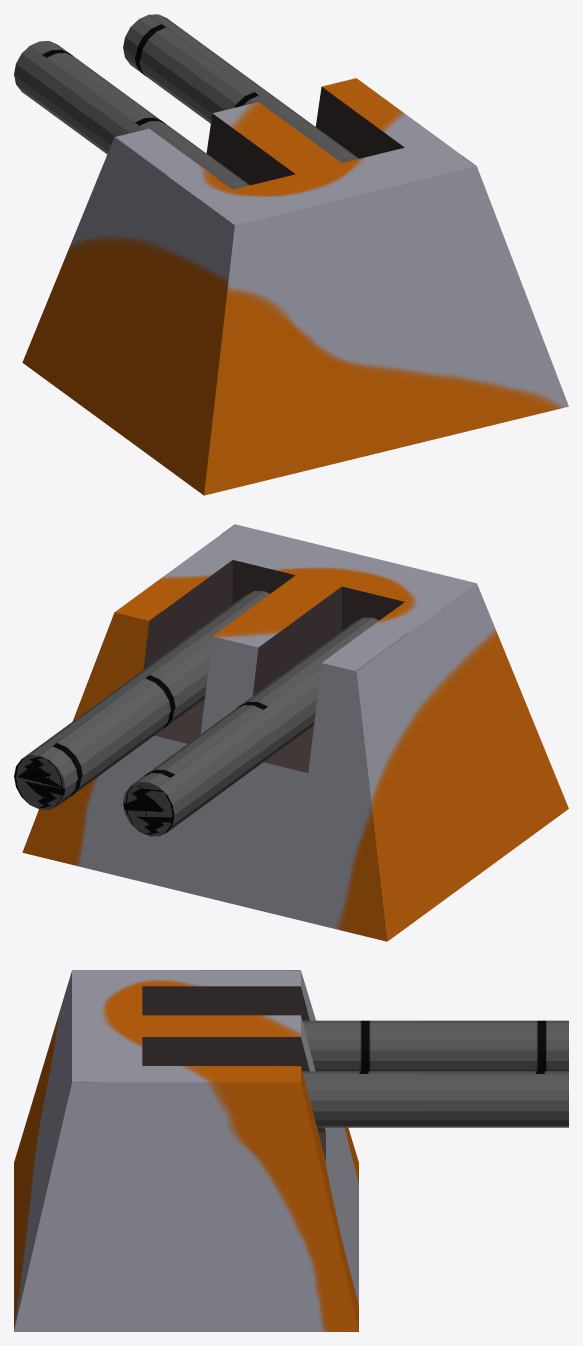
3 views of the same model, one above another, from view 1: azimuth 30°, elevation 25°; view 2: azimuth 150°, elevation 25°; view 3: azimuth 270°, elevation 25° (orthographic). The views are drawn at different scales.
Visible parts, largest first — view 1: Turret Base, Barrels; view 2: Turret Base, Barrels; view 3: Turret Base, Barrels.
Part boxes in pixels (x1,y1,x2,y2): Turret Base: (22,78,568,495); Barrels: (14,14,358,189); Turret Base: (22,524,568,941); Barrels: (14,591,378,836); Turret Base: (14,970,358,1331); Barrels: (302,1020,568,1127).
Size of what is drawn, in the model's own units: 0.5332 by 0.7396 by 0.3252.
1 material, 1 textured.
